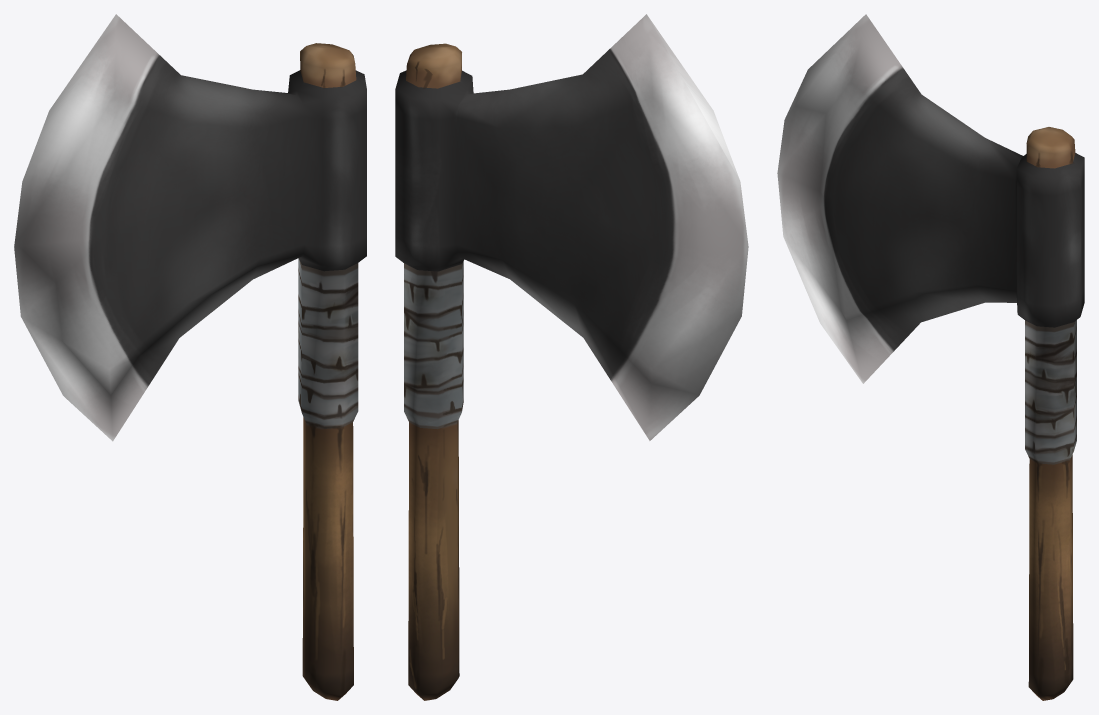
The model's file is SurvivalTools_Axe.fbx.
3 views of the same model, side by side, from view 1: azimuth 30°, elevation 25°; view 2: azimuth 150°, elevation 25°; view 3: azimuth 330°, elevation 25° (orthographic). The views are drawn at different scales.
Visible parts, largest first — view 1: Axe_MDL; view 2: Axe_MDL; view 3: Axe_MDL.
Part boxes in pixels (x1,y1,x2,y2): Axe_MDL: (14, 14, 366, 700); Axe_MDL: (395, 14, 748, 700); Axe_MDL: (777, 14, 1084, 700).
Bounding box in the file's own units: 8.46 × 16.97 × 1.77.
